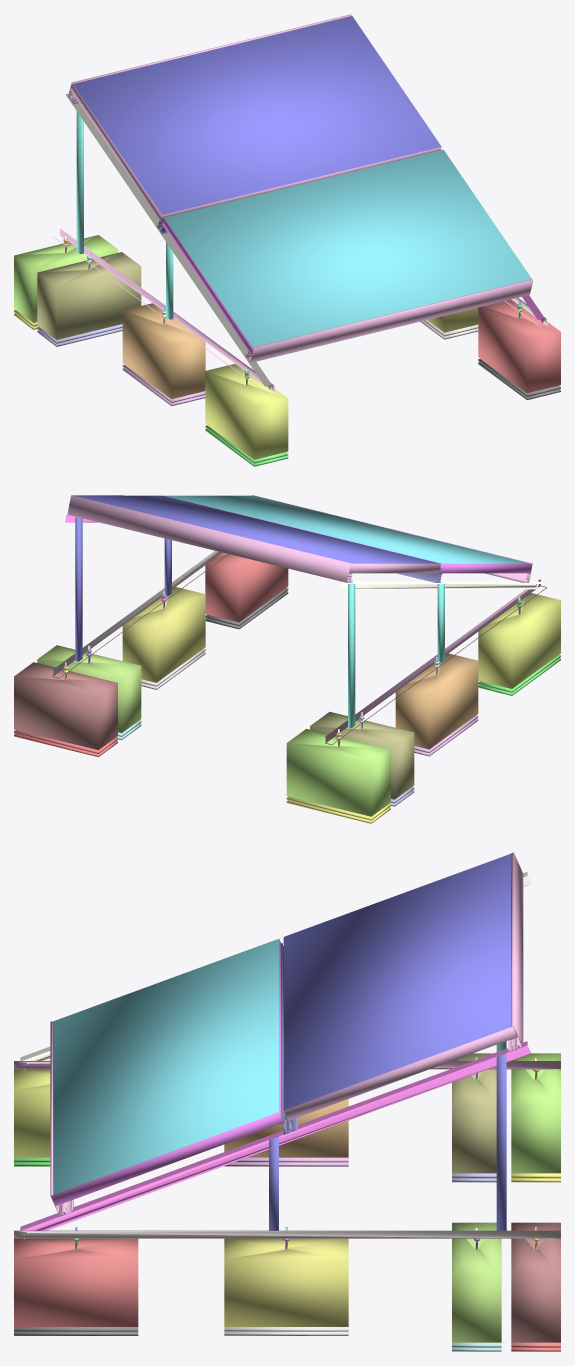
The model's file is rooftop_solar.gltf.
3 renders of one model, top to bottom at view 1: azimuth 30°, elevation 25°; view 2: azimuth 150°, elevation 25°; view 3: azimuth 270°, elevation 25°, orthographic. The views are drawn at different scales.
Parts seen in each view (by area): view 1: rooftop_solar; view 2: rooftop_solar; view 3: rooftop_solar.
Part boxes in pixels (x1=…): rooftop_solar: x1=14, y1=14, x2=560, y2=466; rooftop_solar: x1=14, y1=495, x2=560, y2=823; rooftop_solar: x1=14, y1=852, x2=560, y2=1351.
Size of the model in its own units: 2.49 by 1.58 by 2.6.
